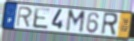4: (51, 7, 65, 32)
6: (85, 11, 100, 34)
E: (32, 7, 51, 31)
M: (65, 9, 87, 35)
R: (100, 12, 119, 37), (15, 6, 33, 28)
